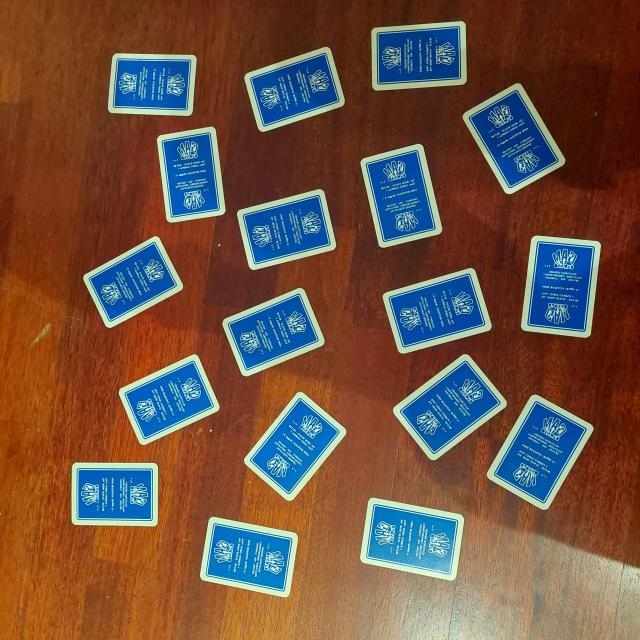card: (487, 396, 593, 512), (390, 356, 505, 460), (242, 390, 346, 504), (462, 82, 564, 196), (116, 353, 222, 450), (354, 494, 466, 584), (382, 266, 495, 354), (81, 234, 183, 330), (219, 288, 325, 378), (518, 234, 604, 343), (243, 46, 346, 136), (361, 143, 443, 246), (238, 189, 340, 271), (198, 515, 299, 597), (367, 17, 473, 92), (66, 456, 165, 530), (156, 126, 226, 224), (106, 52, 198, 115)
